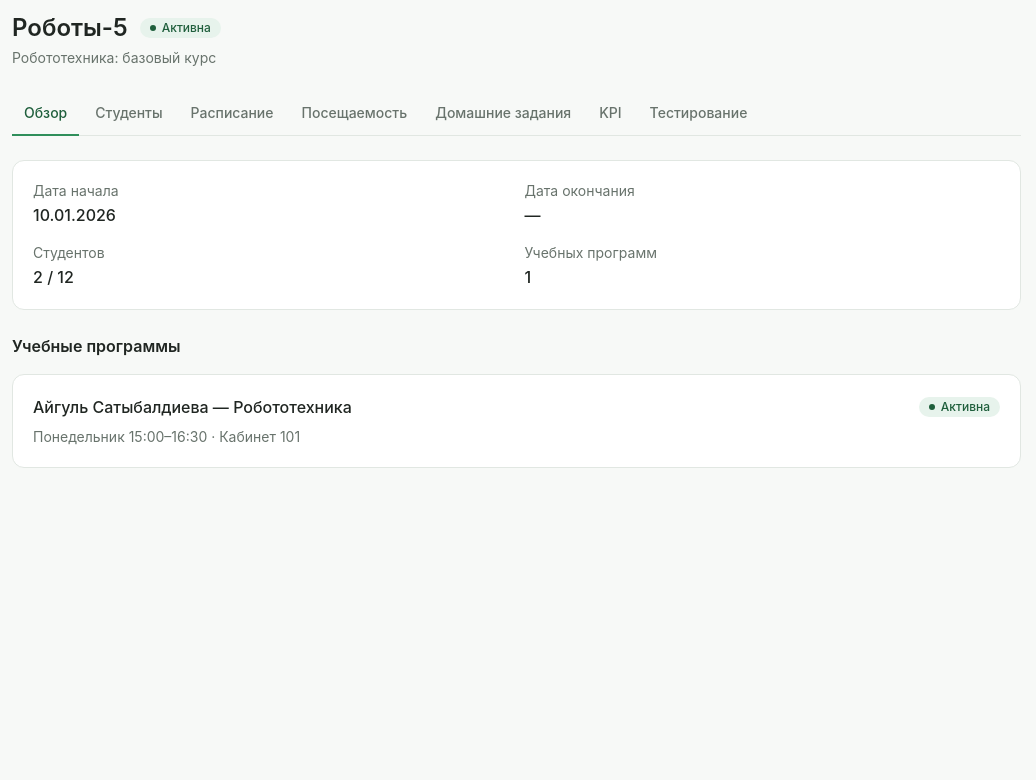
Test: GroupDetailPage › shows KPI data for a period whose lessons are all completed
expect the heading "Роботы-5" is shown: met, box [12,12,128,44]
Step 1. Click the tab "KPI" → (610, 114), box [587,92,634,136]
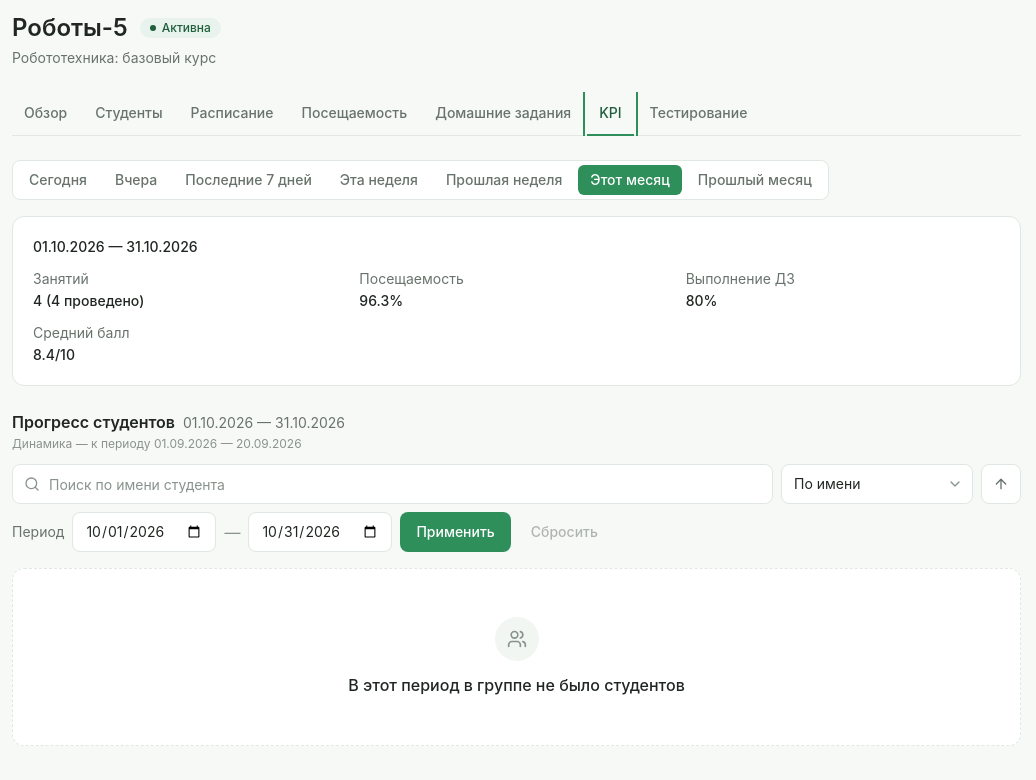
expect the text "4 (4 проведено)" is shown: met, box [33,292,144,309]
expect the text "96.3%" is shown: met, box [359,292,403,309]
